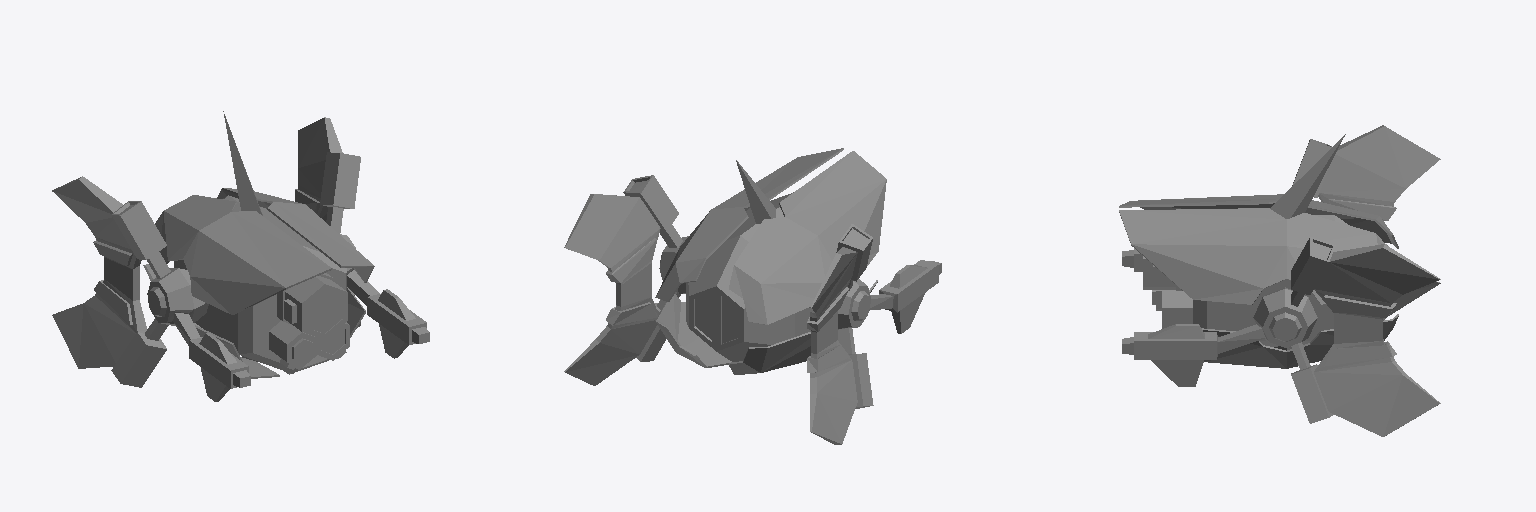
The model's file is ScareCrow.obj.
The picture shows the model from 3 angles: view 1: azimuth 30°, elevation 25°; view 2: azimuth 150°, elevation 25°; view 3: azimuth 270°, elevation 25°; orthographic projection.
Parts seen in each view (by area): view 1: ScareCrow; view 2: ScareCrow; view 3: ScareCrow.
Boxes of the visible parts, x1=… form: ScareCrow: x1=52, y1=111, x2=429, y2=401; ScareCrow: x1=564, y1=148, x2=941, y2=444; ScareCrow: x1=1119, y1=125, x2=1440, y2=436.
Size of the model in its own units: 7.15 by 6.61 by 7.92.